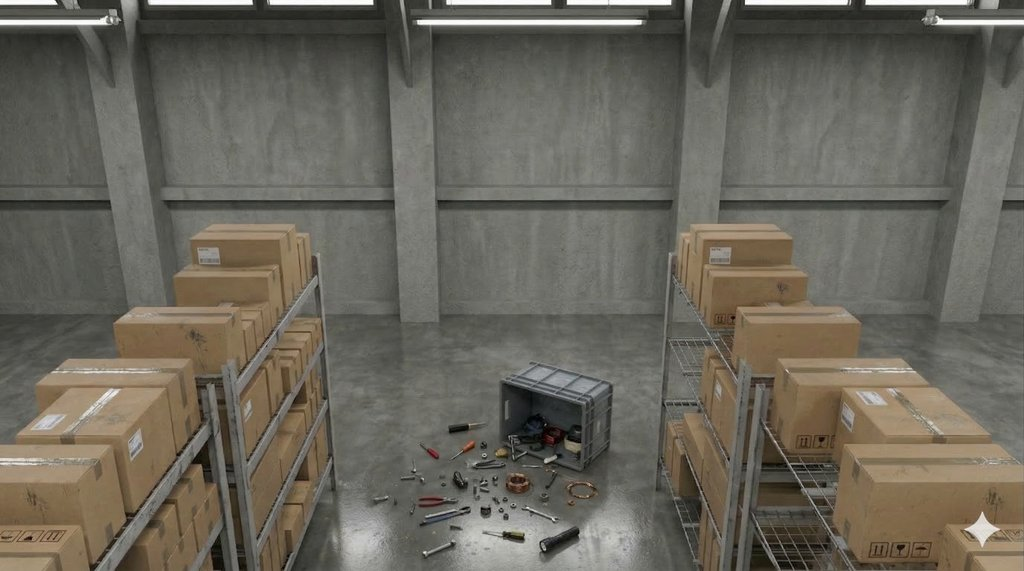obstacle: (351, 341, 636, 564)
